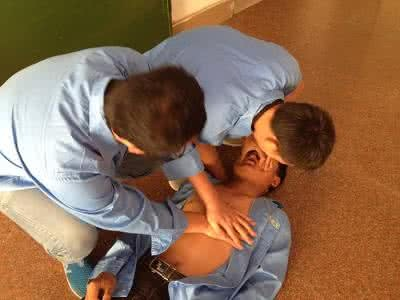falling: (58, 132, 300, 297)
